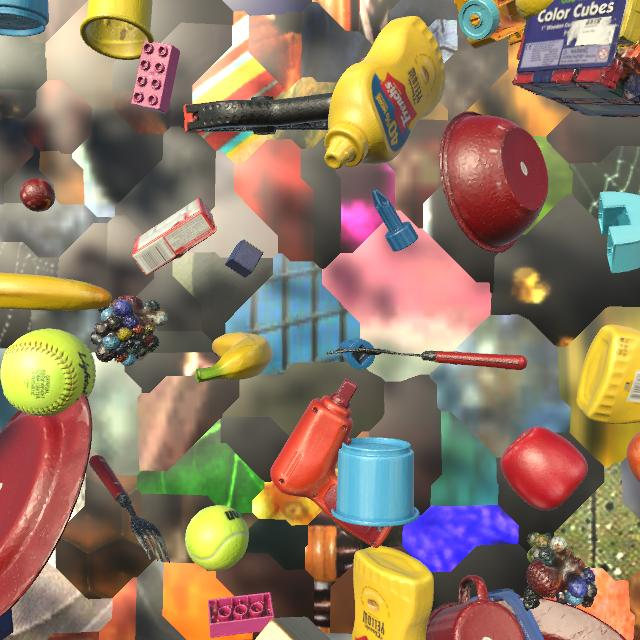ycb_006_mustard_bottle: (324, 16, 446, 169), (351, 546, 434, 640), (577, 325, 640, 424)
ycb_009_gelatin_box: (132, 197, 217, 276)
ycb_011_banana: (0, 273, 112, 311), (195, 332, 273, 383)
ycb_013_apple: (501, 426, 588, 511)
ycb_014_lemon: (516, 0, 554, 21)
ycb_017_orange: (627, 431, 640, 482)
